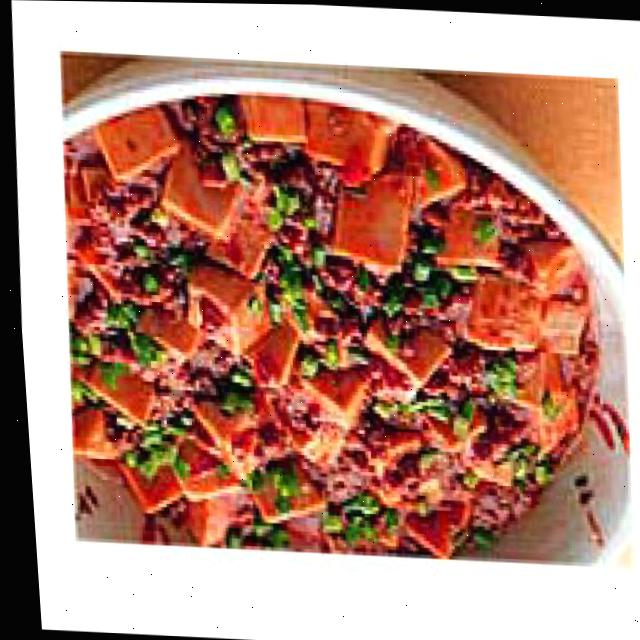豆腐料理: (43, 61, 633, 563)
